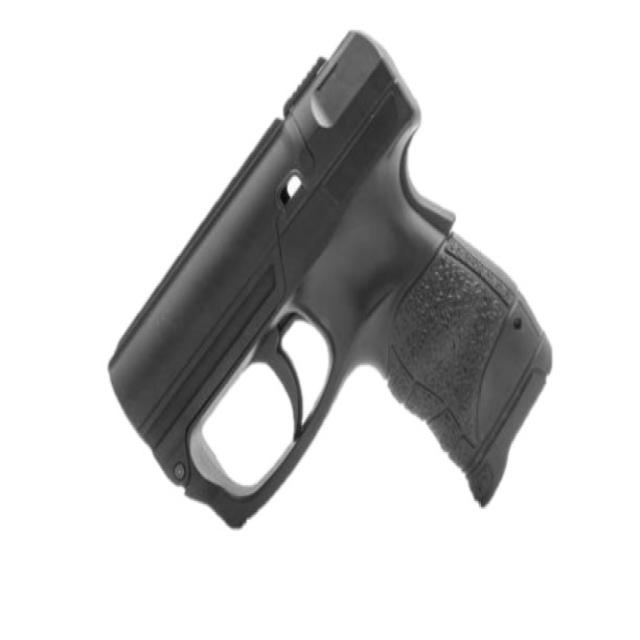pistol: (107, 18, 559, 544)
